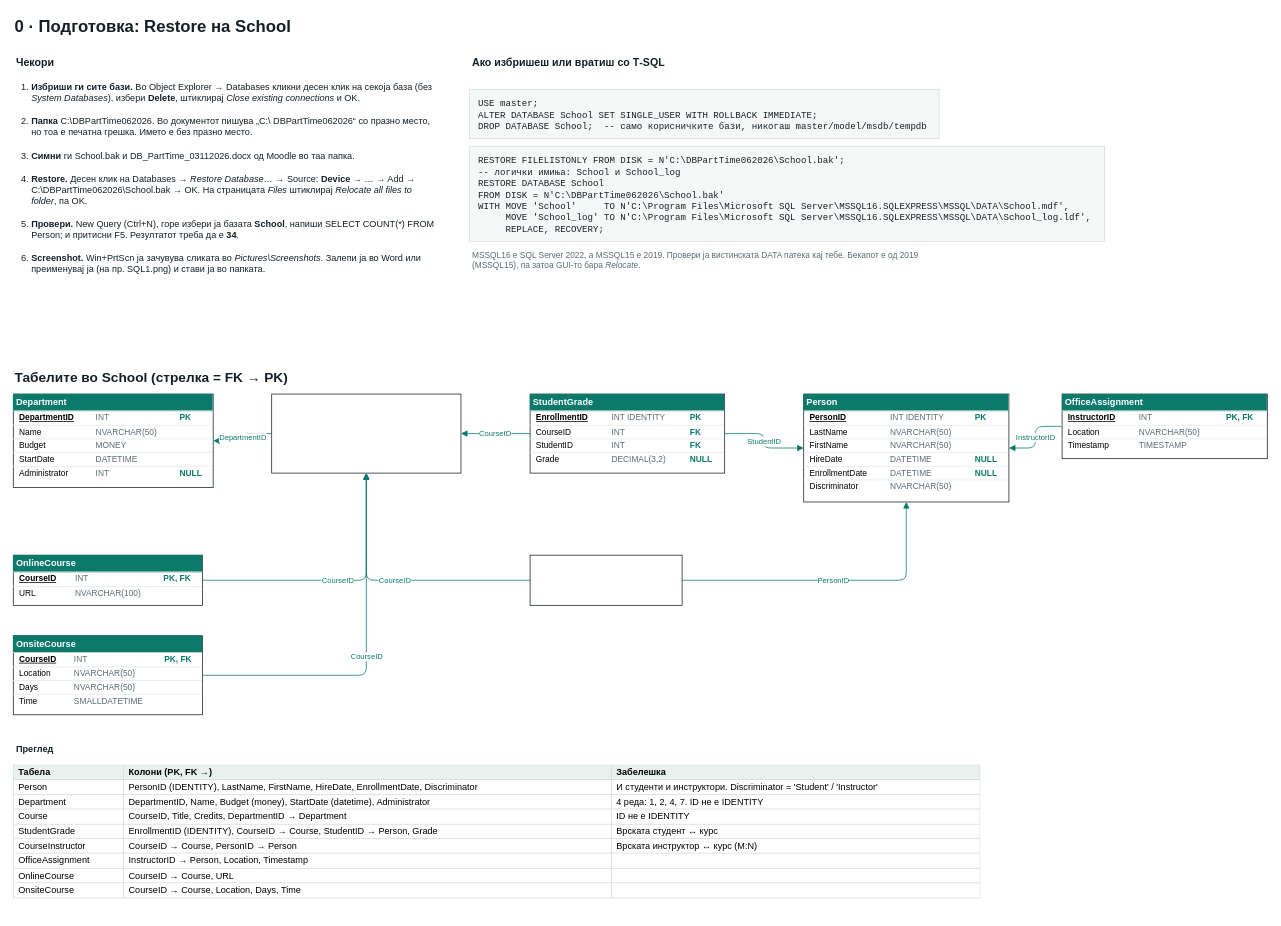
Image size: 1281x926. Some labels were removed from this diagram. The shapes that lost their labels are listed below. From the top down, each one's centre as x and y in pixels, then its label:
At (x=366, y=433): "Course CourseID INT PK Title NVARCHAR(100) Credits INT DepartmentID INT FK".
At (x=605, y=579): "CourseInstructor CourseID INT PK, FK PersonID INT PK, FK".
